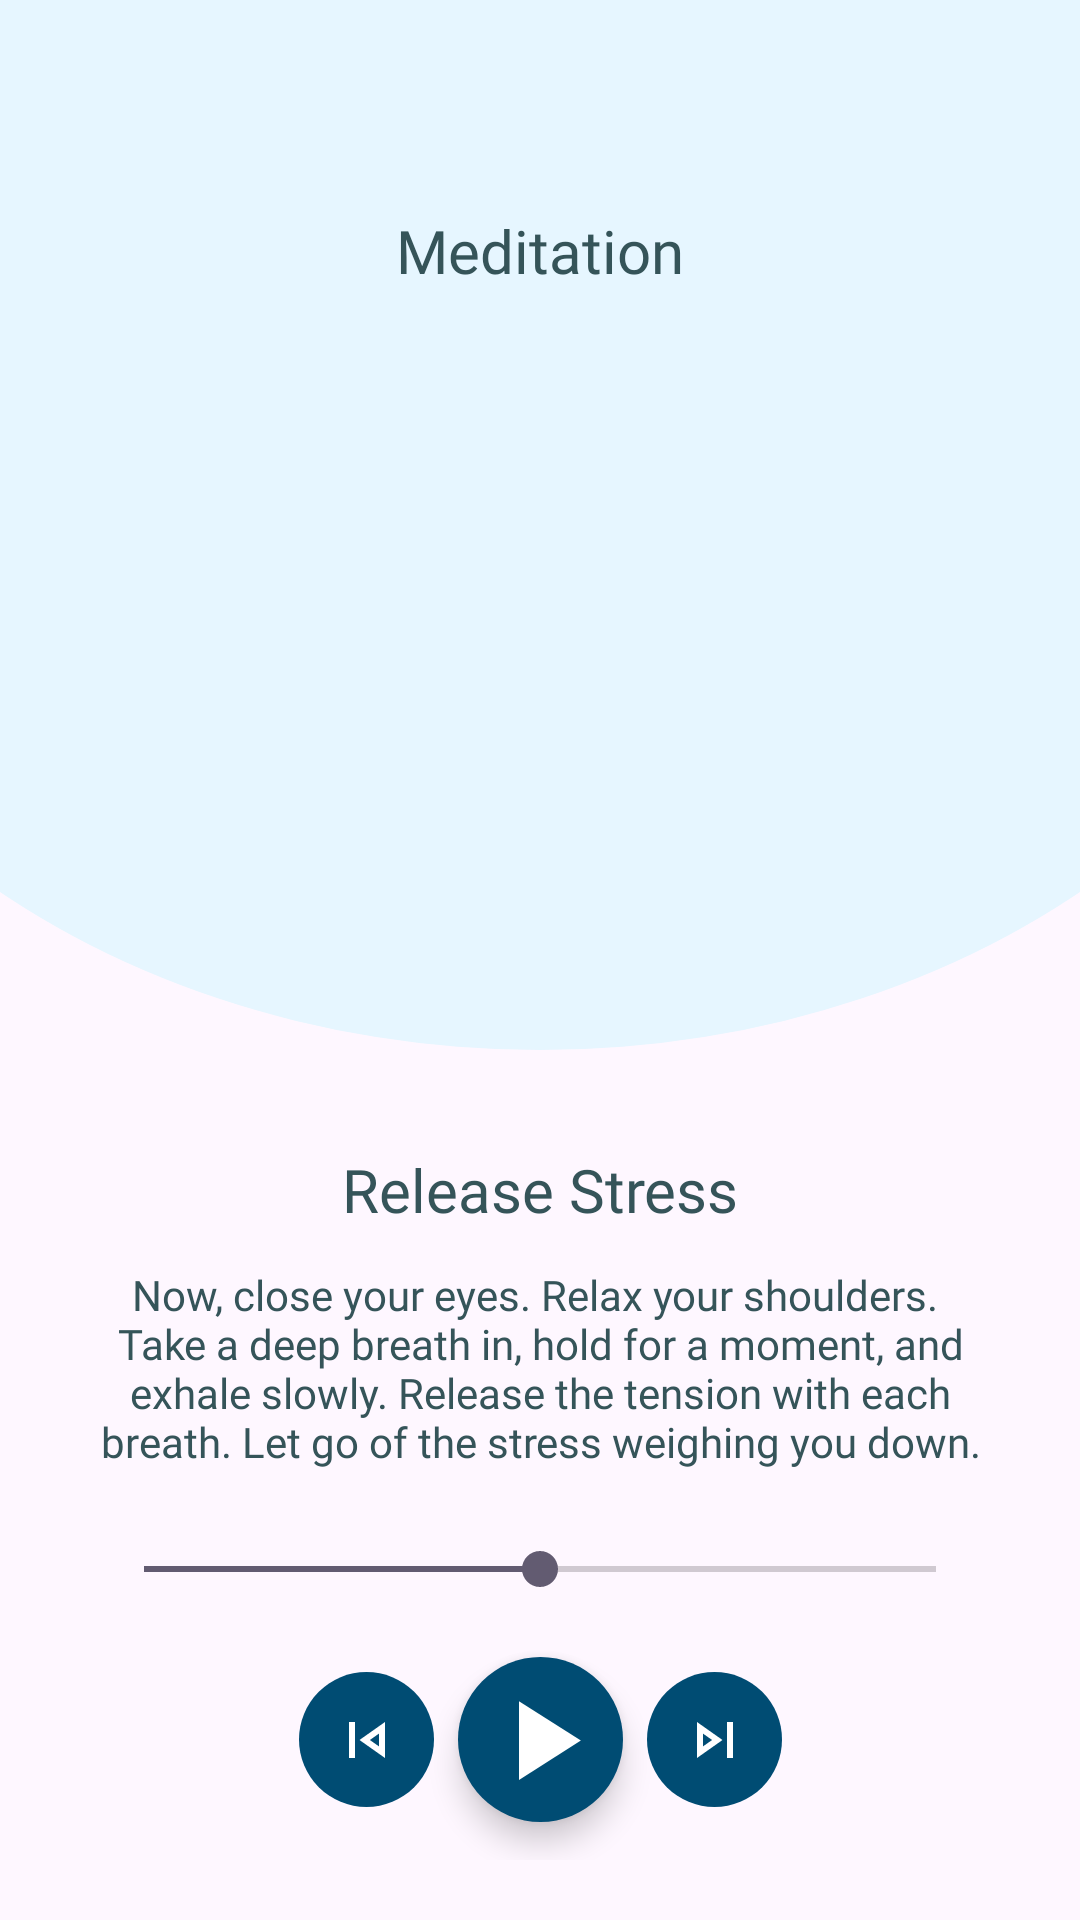

Screen size 1080*1920. Icon name, then its box in pixels as box(x1, y1, x2, y2):
next: box(647, 1672, 782, 1807)
play: box(458, 1657, 623, 1822)
previous: box(299, 1672, 434, 1807)
